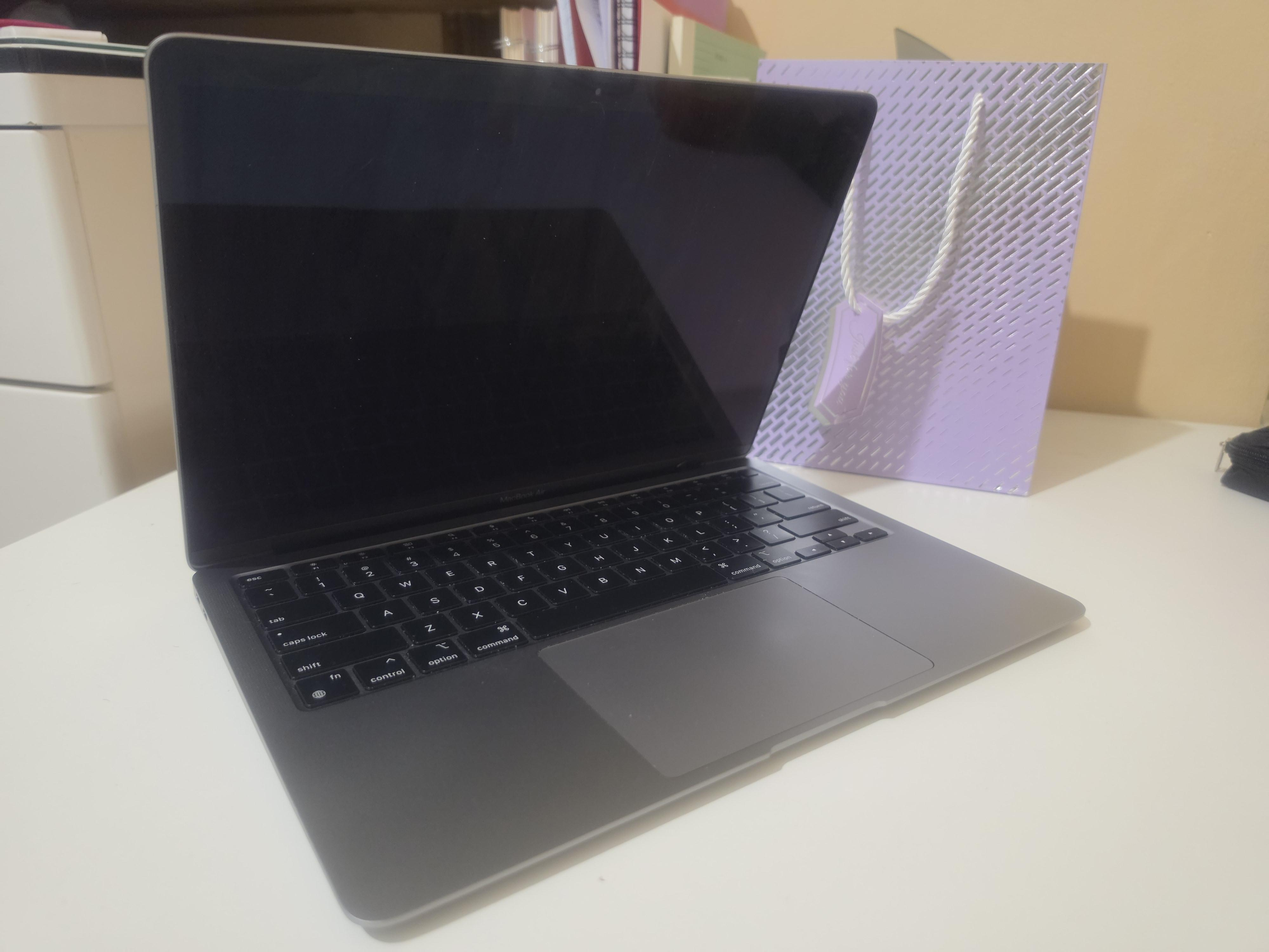laptop: (142, 33, 1088, 933)
